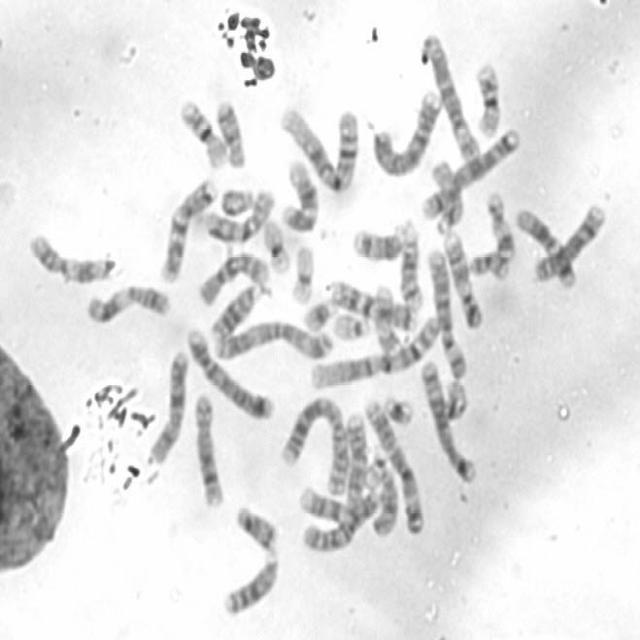A1: (309, 312, 439, 392), (280, 102, 361, 194)
A2: (300, 412, 367, 554), (280, 396, 348, 496)
A3: (366, 398, 426, 537), (214, 318, 334, 362)
B4: (184, 326, 276, 421), (372, 88, 443, 177)
B5: (418, 127, 520, 221), (418, 359, 478, 485)
C10: (197, 252, 270, 309), (204, 187, 276, 244)
C11: (26, 232, 117, 283), (84, 284, 172, 326)
C12: (514, 205, 578, 291), (280, 160, 318, 233)
C6: (424, 34, 482, 163), (427, 248, 469, 383)
C7: (160, 177, 220, 283), (328, 277, 419, 331)
C8: (532, 202, 607, 286), (192, 392, 226, 509)
C9: (442, 228, 484, 330), (298, 486, 384, 525)
D13: (221, 547, 280, 617), (209, 282, 274, 345)
D14: (351, 216, 414, 266), (399, 228, 425, 314)
D15: (431, 156, 465, 236), (371, 454, 399, 536)
E16: (178, 97, 226, 169), (473, 61, 504, 142)
E17: (373, 282, 402, 354), (486, 190, 514, 260)
E18: (215, 101, 248, 168), (237, 503, 281, 549)
F19: (260, 217, 292, 279), (289, 246, 314, 306)
F20: (468, 250, 512, 283), (441, 378, 467, 422)
G21: (300, 297, 338, 331), (382, 394, 413, 428)
G22: (328, 313, 374, 340), (363, 443, 388, 490)
X: (150, 346, 190, 466)
Y: (218, 186, 254, 220)
